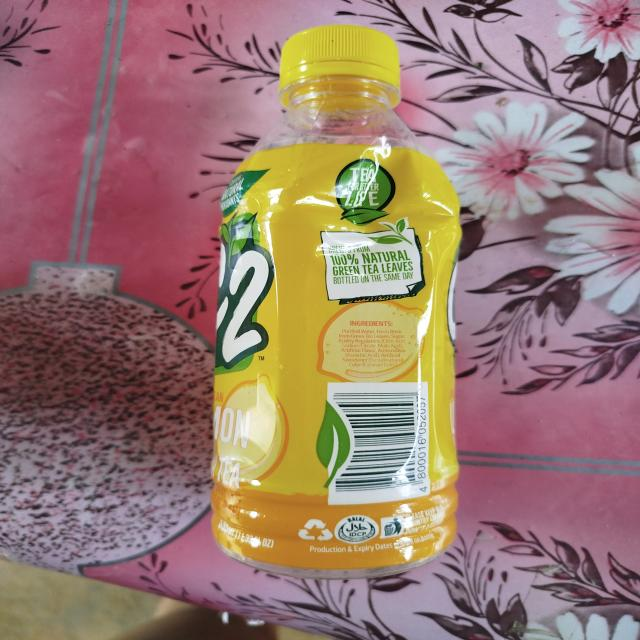plastic: (198, 10, 486, 581)
